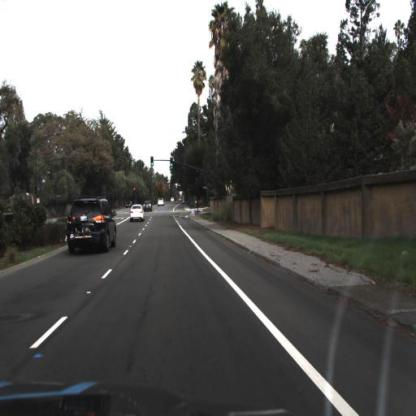car: (67, 198, 119, 254), (129, 200, 145, 223), (143, 199, 156, 215), (159, 198, 167, 208)
trafficLight-Green: (150, 159, 156, 174), (170, 155, 175, 173), (169, 156, 175, 170), (207, 178, 213, 192), (150, 157, 155, 170)
trafficLight-Red: (132, 185, 137, 196)
